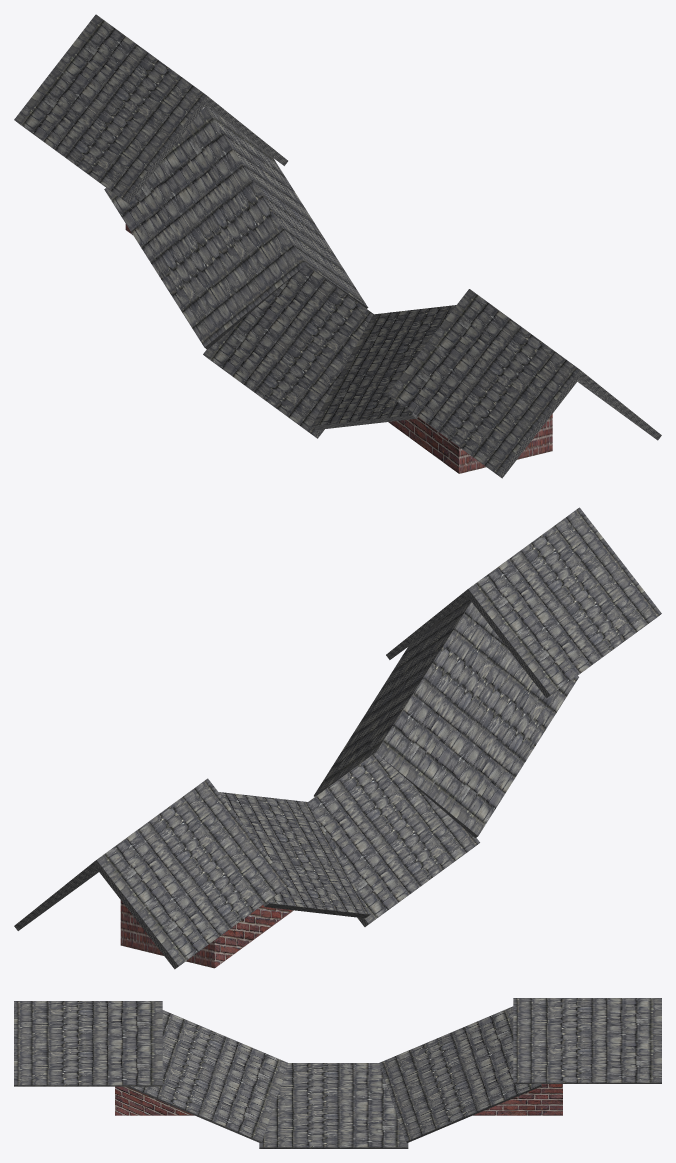
The model's file is obstaclelow.fbx.
The picture shows the model from 3 angles, top to bottom: view 1: azimuth 30°, elevation 25°; view 2: azimuth 150°, elevation 25°; view 3: azimuth 270°, elevation 25°; orthographic projection. The views are drawn at different scales.
Visible parts, largest first — view 1: Box006, Box005, Box007, Box011, Box009, Box003, Box001, Box002, Box004; view 2: Box009, Box007, Box005, Box011, Box006, Box008, Box001, Box004, Box002; view 3: Box004, Box002, Box003, Box008, Box010, Box001.
Boxes of the visible parts, <box> form: Box006: <box>104,107,305,349</box>; Box005: <box>14,14,206,203</box>; Box007: <box>387,289,579,478</box>; Box011: <box>203,265,373,438</box>; Box009: <box>311,305,456,429</box>; Box003: <box>206,106,368,308</box>; Box001: <box>125,224,552,473</box>; Box002: <box>470,289,661,440</box>; Box004: <box>96,14,287,165</box>; Box009: <box>376,602,578,837</box>; Box007: <box>464,507,661,698</box>; Box005: <box>92,779,289,969</box>; Box011: <box>308,752,479,926</box>; Box006: <box>218,792,370,918</box>; Box008: <box>314,599,471,796</box>; Box001: <box>120,900,293,968</box>; Box004: <box>14,778,207,930</box>; Box002: <box>386,508,578,659</box>; Box004: <box>513,998,661,1083</box>; Box002: <box>14,1001,162,1086</box>; Box003: <box>379,1006,541,1142</box>; Box008: <box>127,1010,288,1143</box>; Box010: <box>259,1063,408,1148</box>; Box001: <box>115,1084,562,1115</box>.
Size of the model in its own units: 1.44 by 1.54 by 7.23.
Materials: 2 (2 with a texture image).
